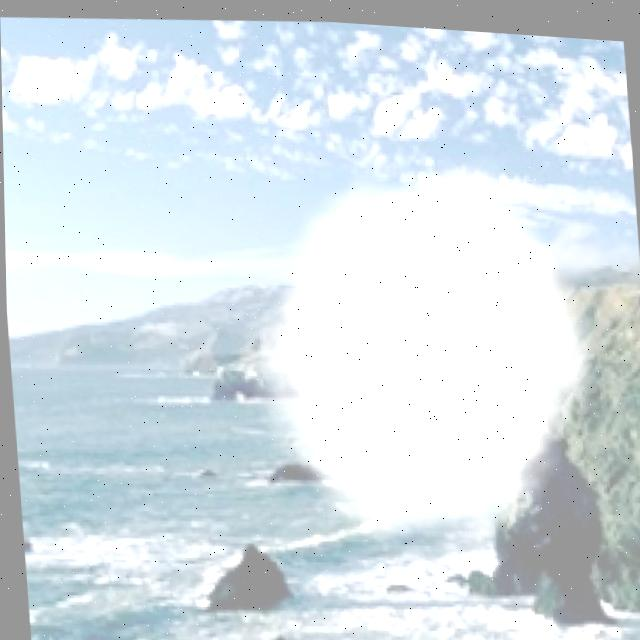Smoke: (223, 146, 615, 545)
